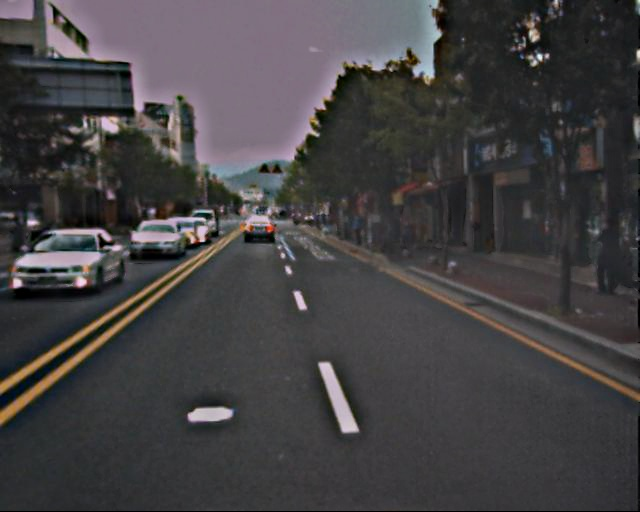person: (587, 214, 625, 298)
